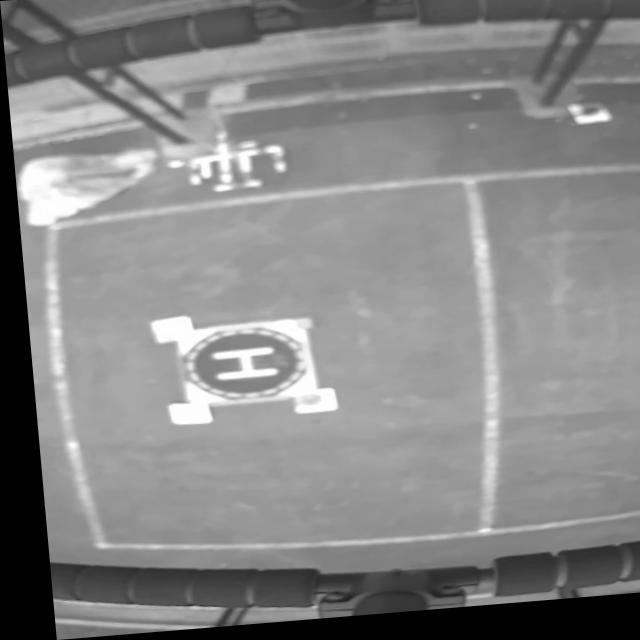Helipad: (204, 350, 270, 383)
